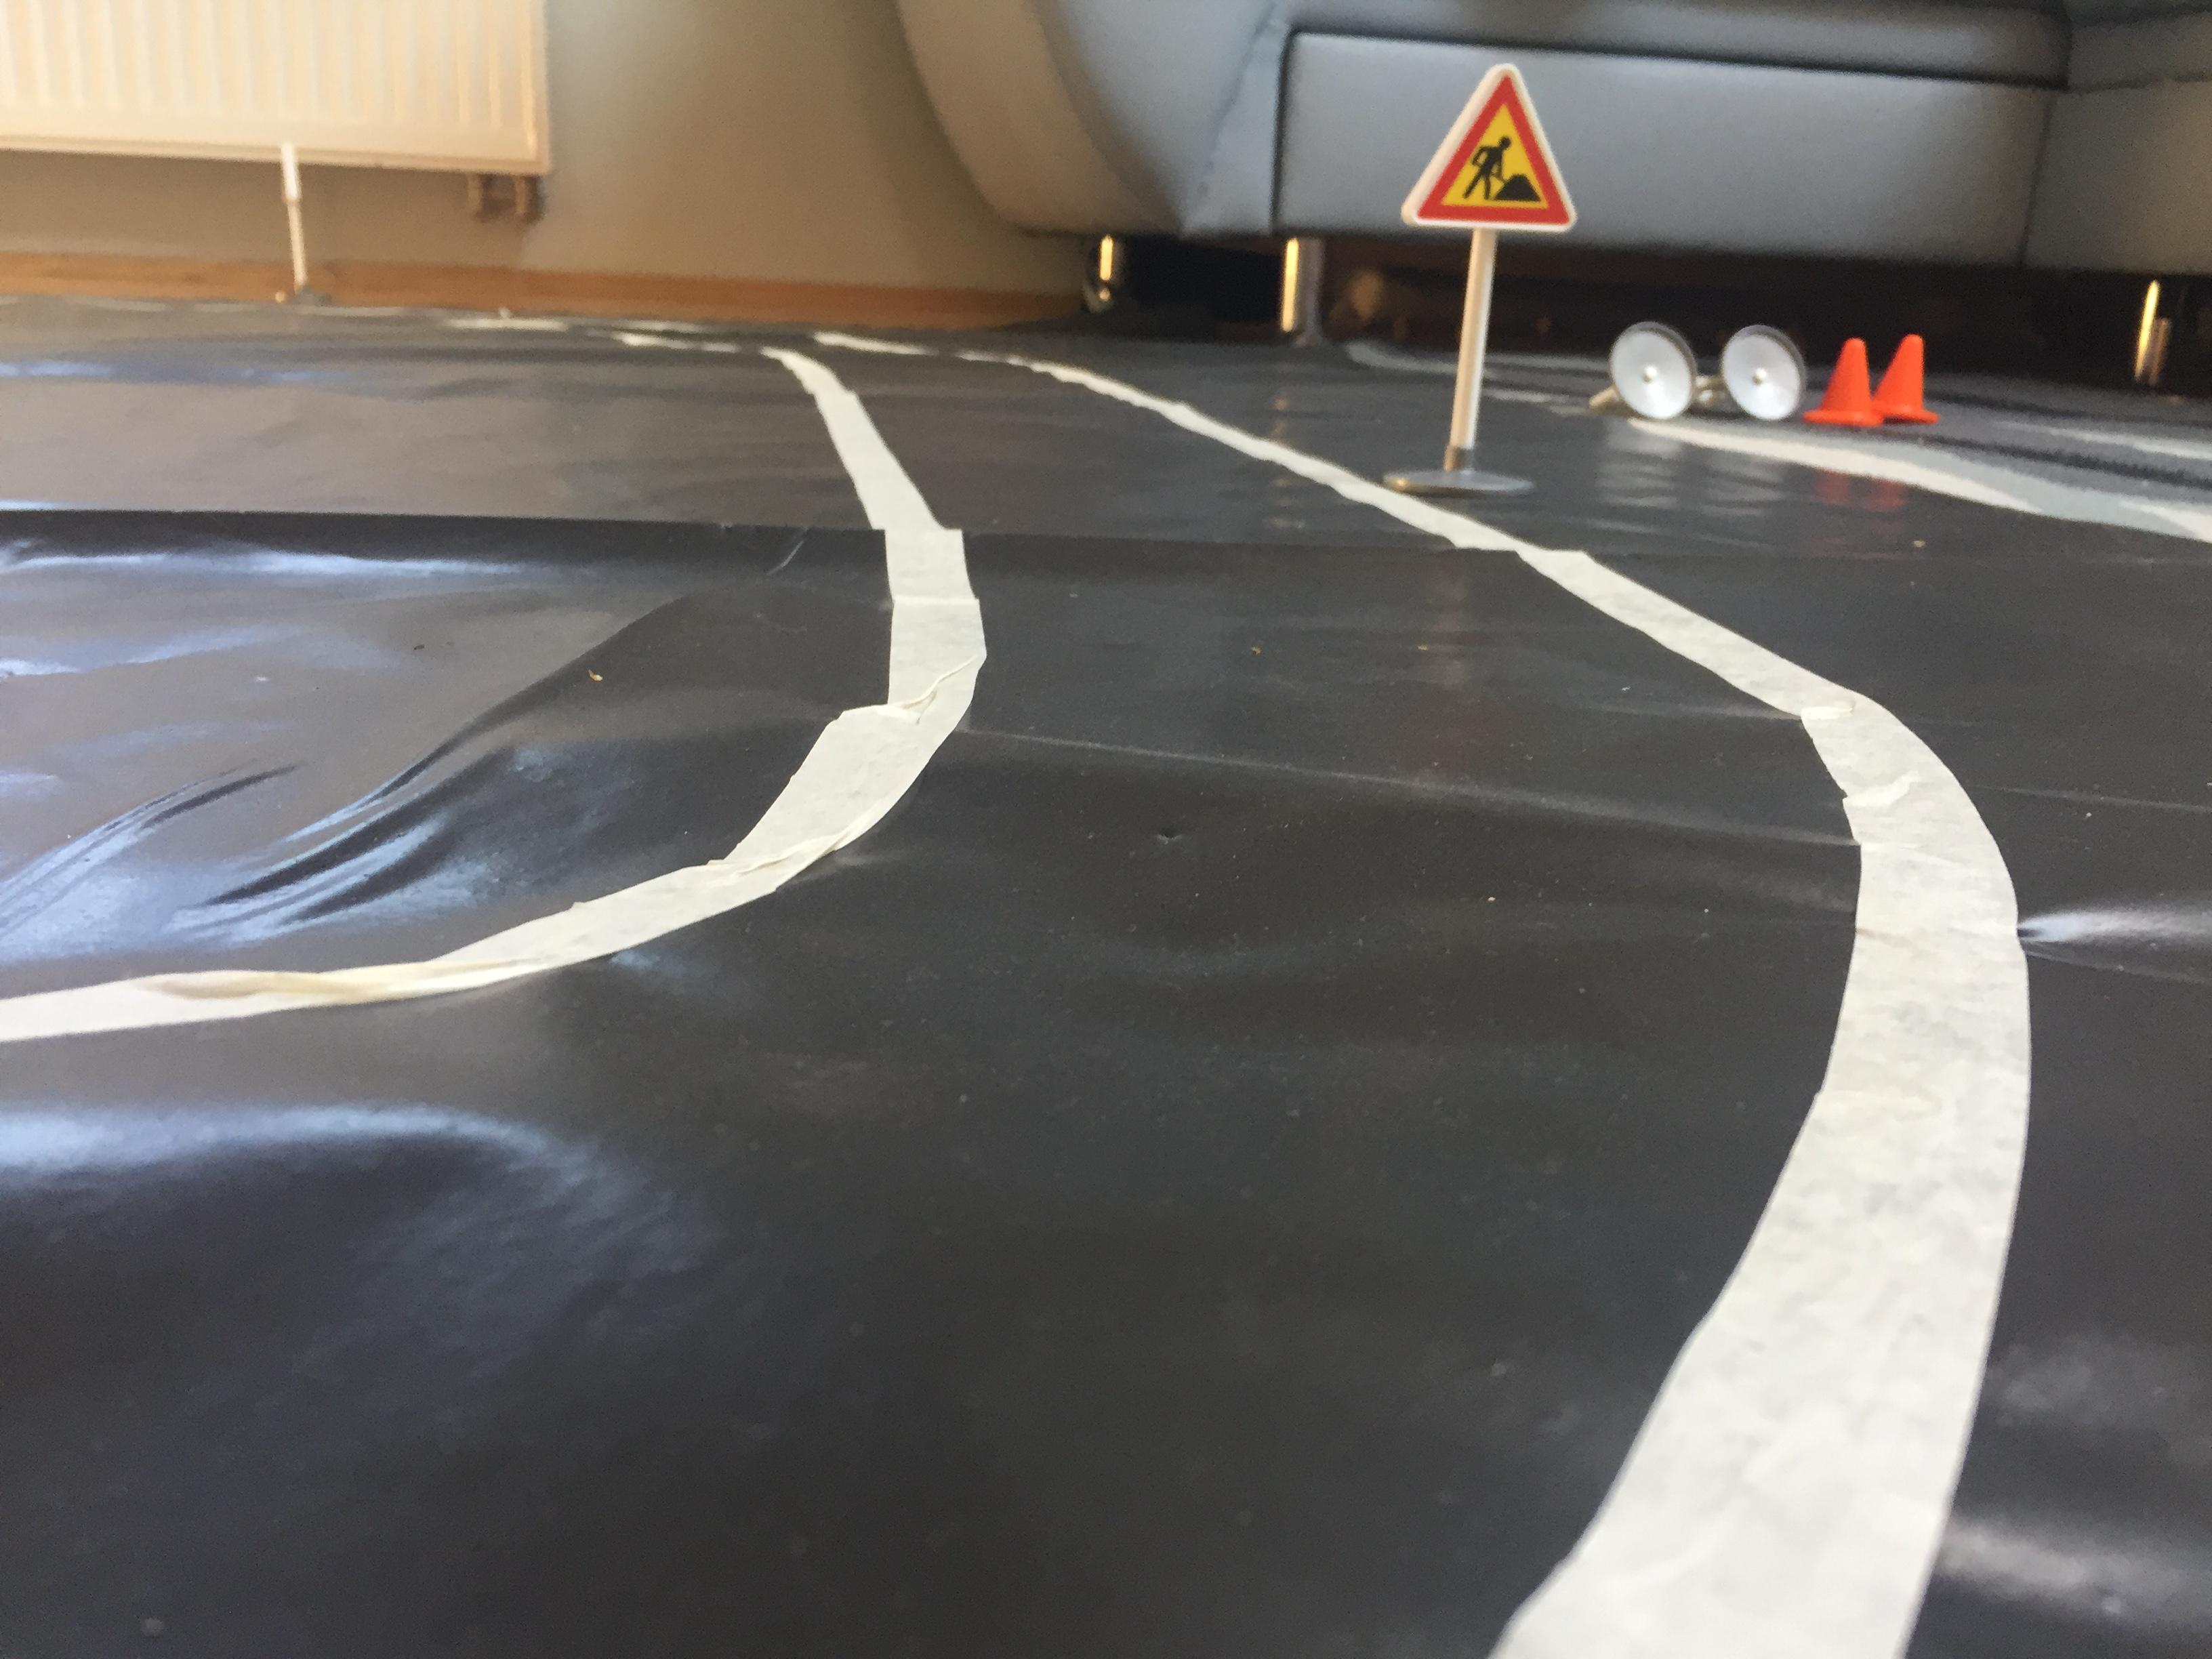work: (1383, 56, 1585, 242)
